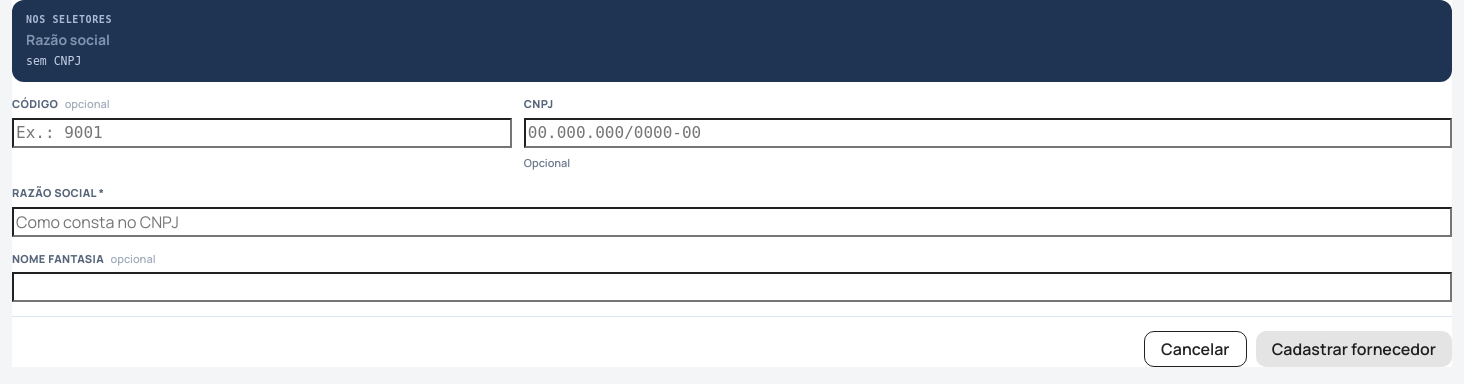
Test case: SupplierForm › mascara o CNPJ ao digitar e avisa quando os dígitos não conferem
Type "11222333000180" into the field labelled "CNPJ Opcional" at [988, 133], box left=524, top=118, right=1452, bottom=148
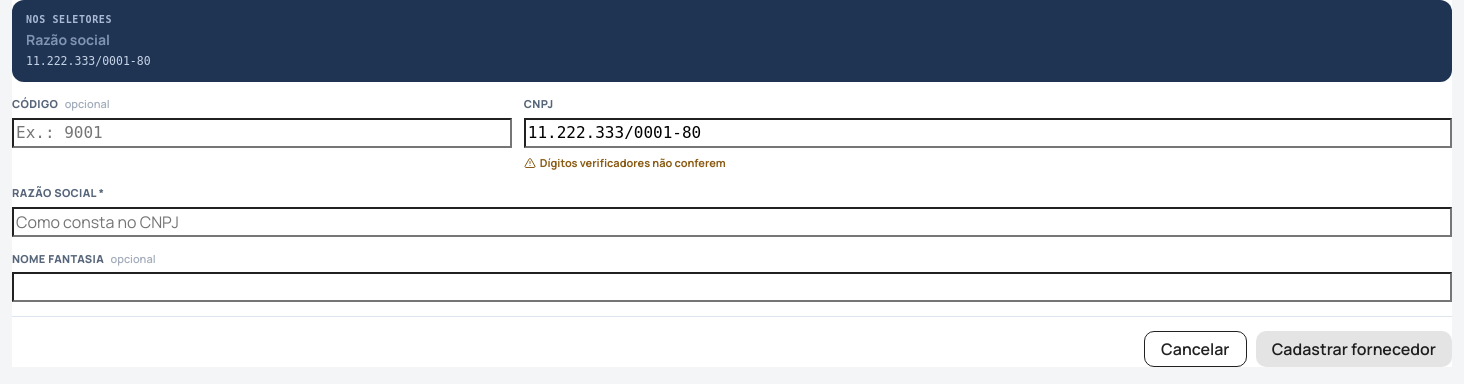
Now the field labelled "CNPJ Dígitos verificadores não conferem" holds "11.222.333/0001-80"
Now the element with test id "cnpj-status" reads "Dígitos verificadores não conferem", box left=540, top=155, right=726, bottom=170
Replace the text in the field labelled "CNPJ Dígitos verificadores não conferem" with "11222333000181" at [988, 133], box left=524, top=118, right=1452, bottom=148
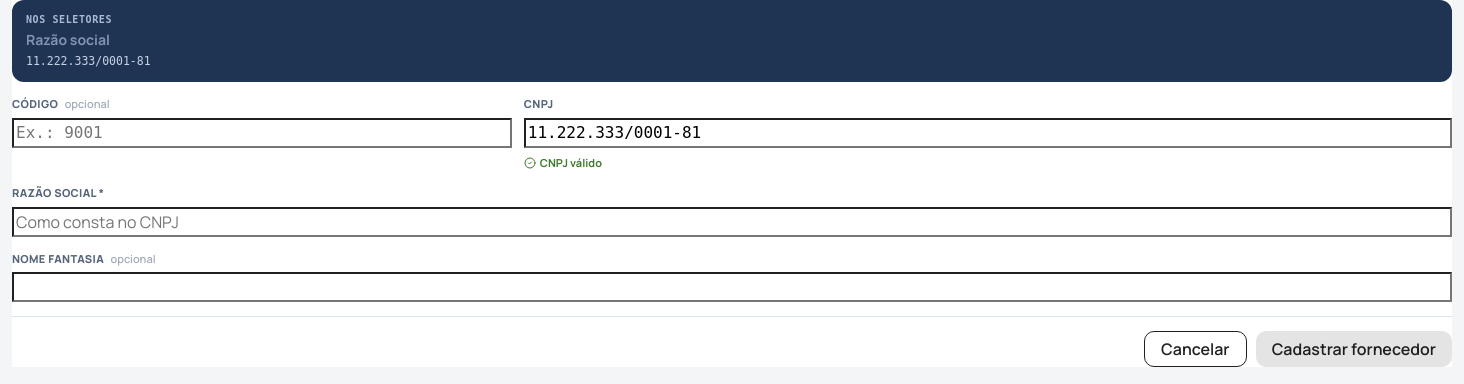
Now the element with test id "cnpj-status" reads "CNPJ válido", box left=540, top=155, right=602, bottom=170
